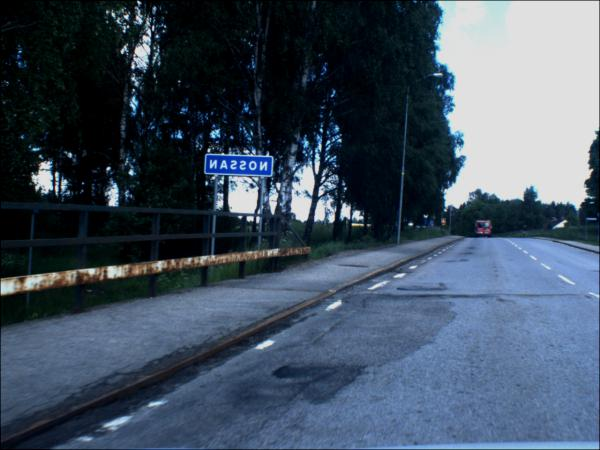WARNING: (441, 219, 447, 225)
